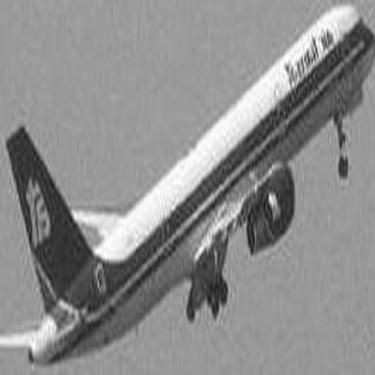airplane: (1, 9, 369, 372)
